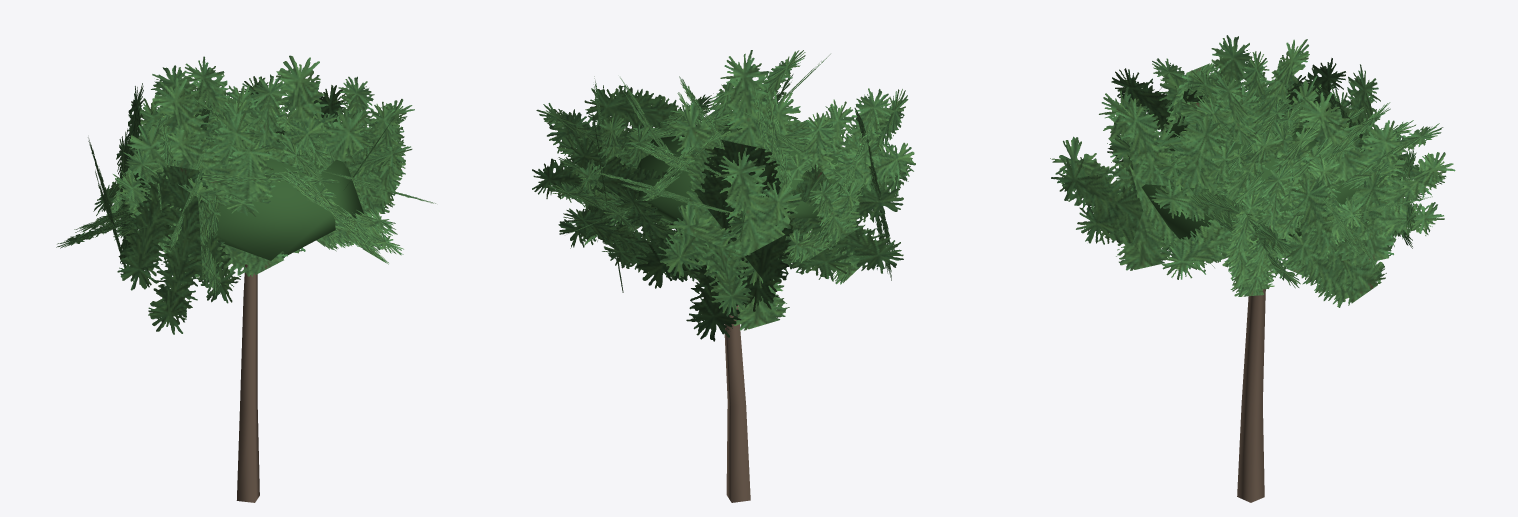
The model's file is PINUS_2.glb.
3 renders of one model, left to right at view 1: azimuth 30°, elevation 25°; view 2: azimuth 150°, elevation 25°; view 3: azimuth 270°, elevation 25°, orthographic. The views are drawn at different scales.
Visible parts, largest first — view 1: Arv_PINUS_lod2; view 2: Arv_PINUS_lod2; view 3: Arv_PINUS_lod2.
Part boxes in pixels (bbox=[...]): Arv_PINUS_lod2: bbox=[56, 55, 435, 502]; Arv_PINUS_lod2: bbox=[532, 50, 915, 502]; Arv_PINUS_lod2: bbox=[1050, 35, 1455, 502].
Bounding box in the file's own units: 11.55 × 13.11 × 12.72.
Materials: 3 (1 with a texture image).
